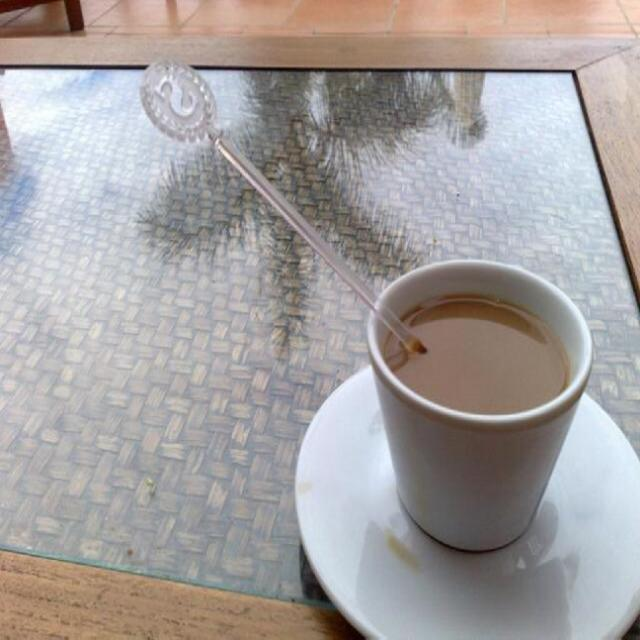Coffee: (392, 300, 571, 418)
Tea: (379, 300, 567, 412)
